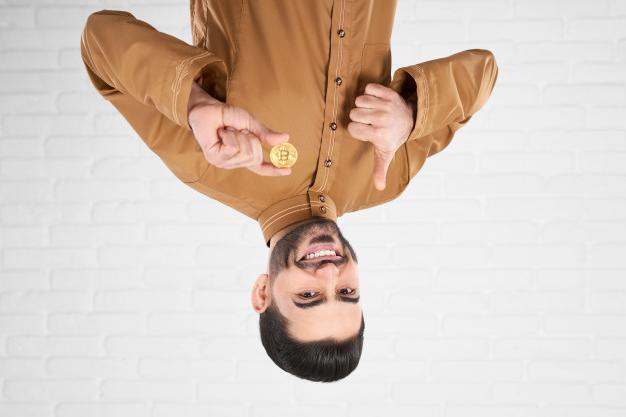thumbsdown: (347, 83, 399, 192)
